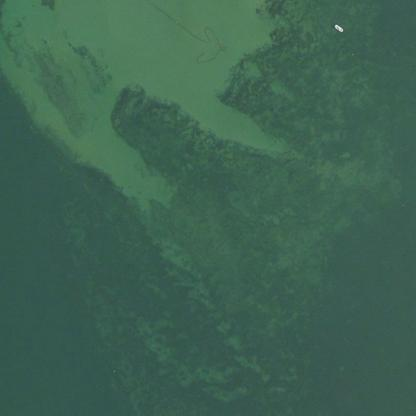ship: (328, 19, 347, 36)
